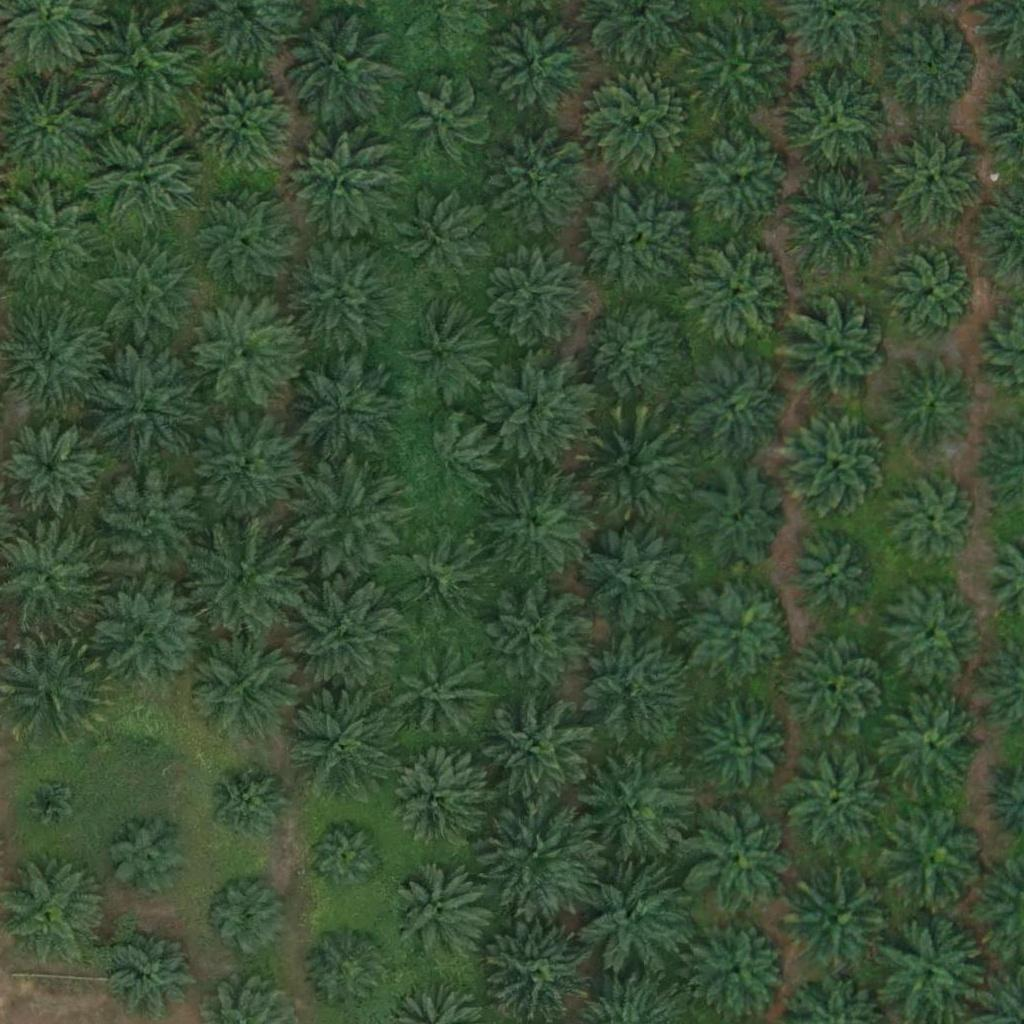Kelapa_Sawit: (685, 8, 798, 122), (777, 65, 890, 179), (785, 164, 898, 278), (285, 679, 398, 793), (188, 410, 301, 524), (185, 520, 298, 634), (86, 239, 199, 353), (88, 349, 201, 463), (281, 9, 394, 122), (285, 131, 398, 244), (483, 239, 596, 352), (779, 296, 892, 409), (781, 406, 894, 519), (580, 519, 693, 632), (576, 629, 689, 742), (485, 353, 598, 466), (476, 466, 589, 579), (482, 583, 595, 696), (190, 630, 303, 743), (92, 470, 205, 583), (484, 801, 597, 914), (581, 749, 694, 862), (578, 863, 691, 976), (482, 694, 594, 808), (289, 460, 401, 574), (291, 577, 403, 691), (82, 11, 194, 124), (90, 125, 202, 238), (189, 182, 301, 295), (288, 239, 400, 352), (484, 10, 596, 123), (587, 183, 699, 296), (578, 299, 690, 412), (577, 414, 689, 527), (287, 354, 399, 467), (187, 297, 299, 410), (97, 577, 209, 690), (685, 803, 797, 916), (780, 742, 892, 855), (787, 869, 899, 982), (194, 73, 294, 174), (492, 134, 592, 235), (590, 70, 690, 171), (692, 127, 792, 228), (881, 355, 981, 456), (882, 583, 982, 684), (882, 700, 982, 801), (786, 637, 886, 738), (685, 242, 785, 343), (682, 354, 782, 455), (691, 470, 791, 571), (692, 580, 792, 681), (689, 694, 789, 795), (397, 300, 497, 401), (1, 418, 101, 519), (385, 751, 485, 852), (391, 863, 491, 964), (691, 920, 791, 1021), (882, 15, 982, 115), (884, 132, 984, 232), (881, 242, 981, 342), (389, 527, 489, 627), (393, 646, 493, 746), (883, 804, 983, 904), (790, 532, 878, 620), (406, 417, 494, 505), (112, 928, 200, 1016), (400, 77, 487, 165), (401, 193, 488, 281), (890, 475, 977, 563), (106, 813, 193, 901), (205, 763, 292, 851), (202, 872, 289, 960), (304, 927, 391, 1015), (307, 819, 382, 894), (24, 777, 74, 828), (121, 714, 171, 764)
